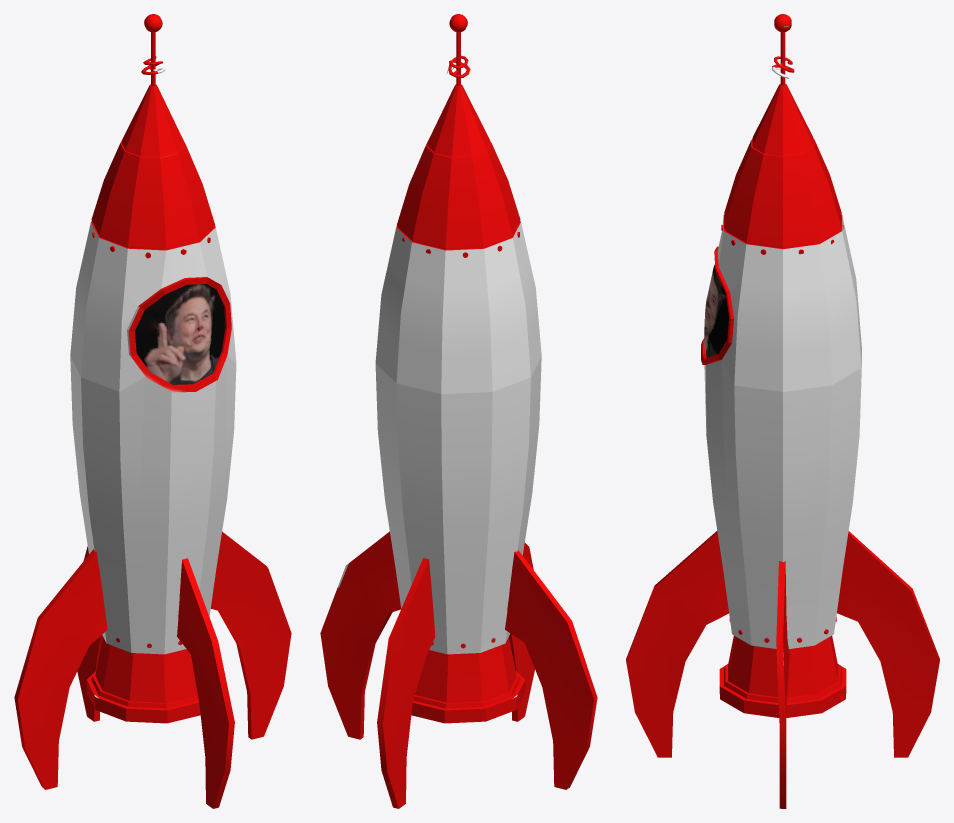
Rendered from rocket.obj.
3 views of the same model, side by side, from view 1: azimuth 30°, elevation 25°; view 2: azimuth 150°, elevation 25°; view 3: azimuth 270°, elevation 25° (orthographic).
Parts seen in each view (by area): view 1: scifi_cartoon_rocket; view 2: scifi_cartoon_rocket; view 3: scifi_cartoon_rocket.
Boxes of the visible parts, x1,y1,x2,y2 form: scifi_cartoon_rocket: [14, 14, 291, 808]; scifi_cartoon_rocket: [320, 14, 597, 808]; scifi_cartoon_rocket: [626, 14, 939, 808].
Bounding box in the file's own units: 0.5653 × 1.47 × 0.5653.
